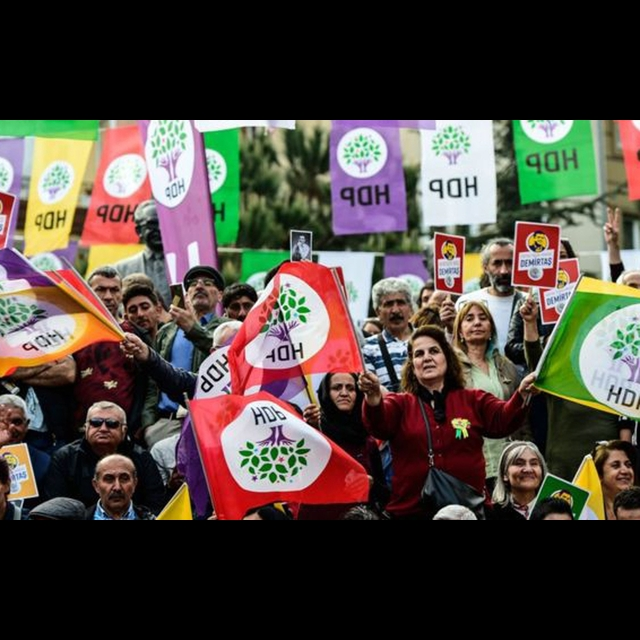HDP: (233, 405, 313, 485), (251, 280, 314, 341), (336, 127, 390, 182), (431, 125, 474, 167), (35, 161, 73, 201)
